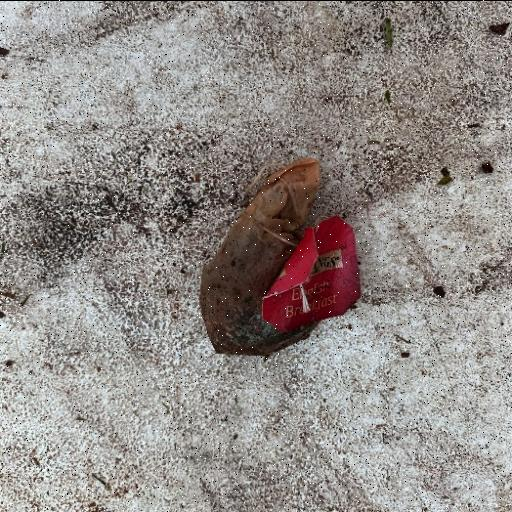Waste: (198, 156, 362, 358), (259, 215, 361, 334)
